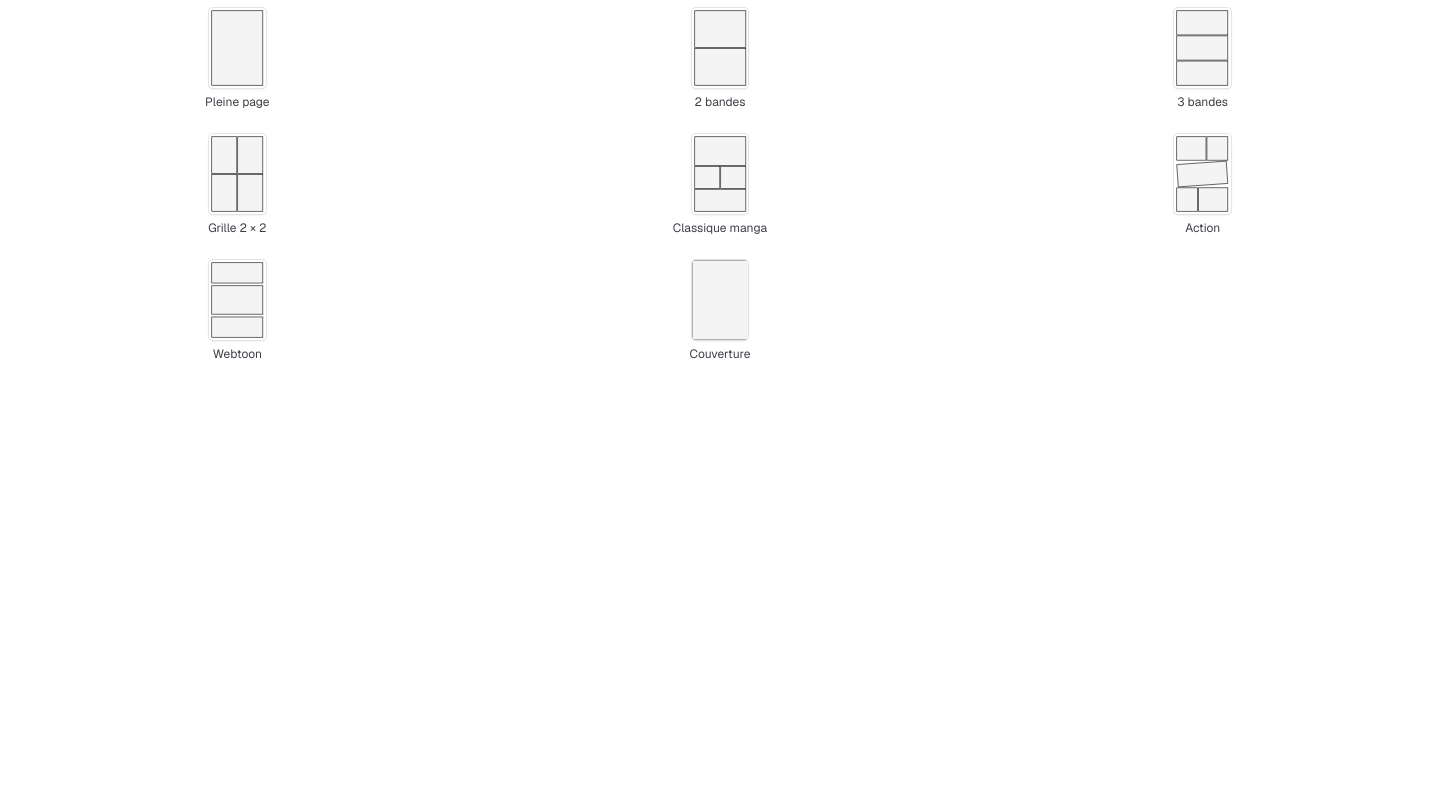
Scenario: TemplatePicker › keeps the current panels when the user cancels
The width and height of the screenshot is (1440, 810).
What coordinates should you click on to do the following:
click the button "Pleine page"
I would click on:
 (237, 59)
Its box is [0,0,475,118].
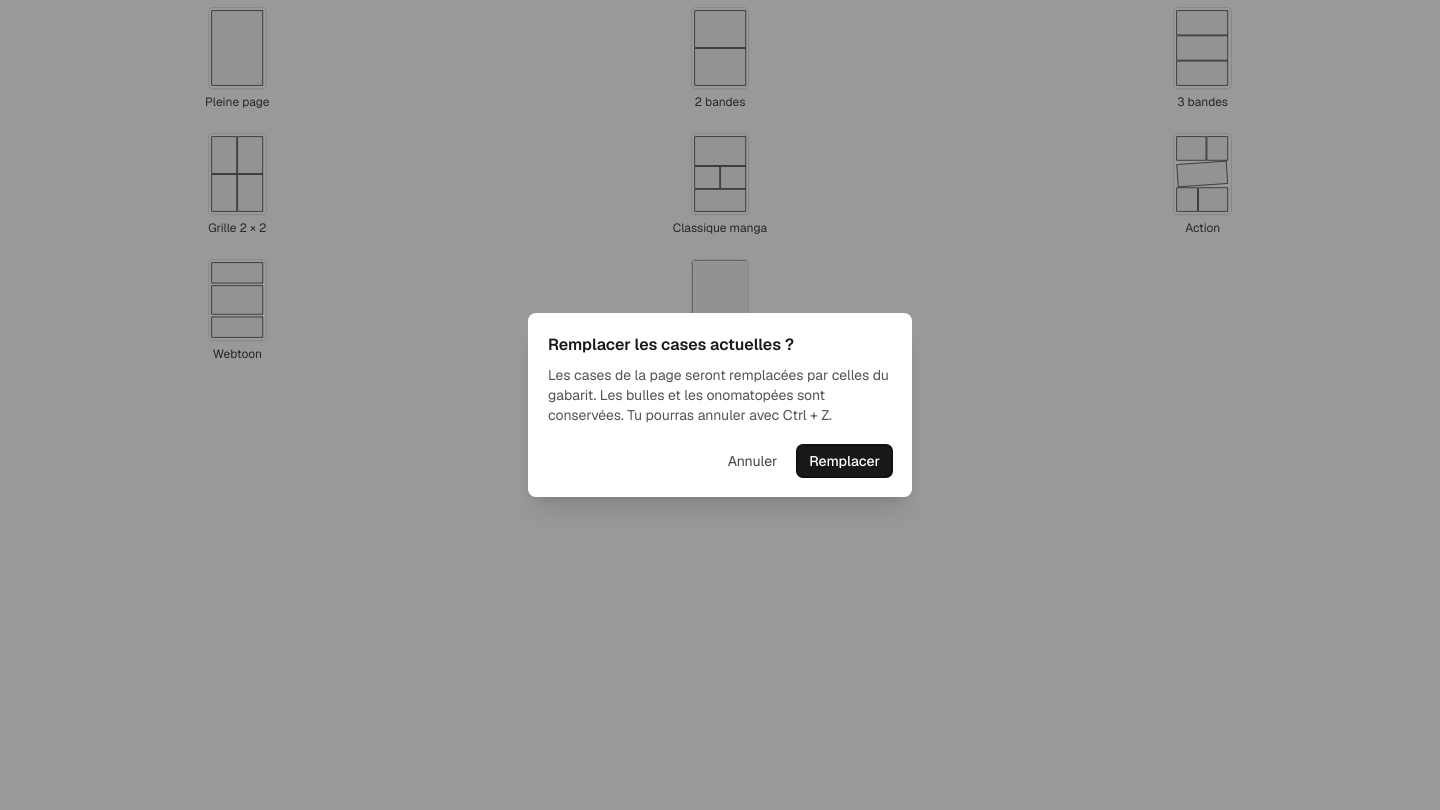
What coordinates should you click on to do the following:
click the button "Annuler"
I would click on:
 (752, 461)
Its box is [716,445,789,477].
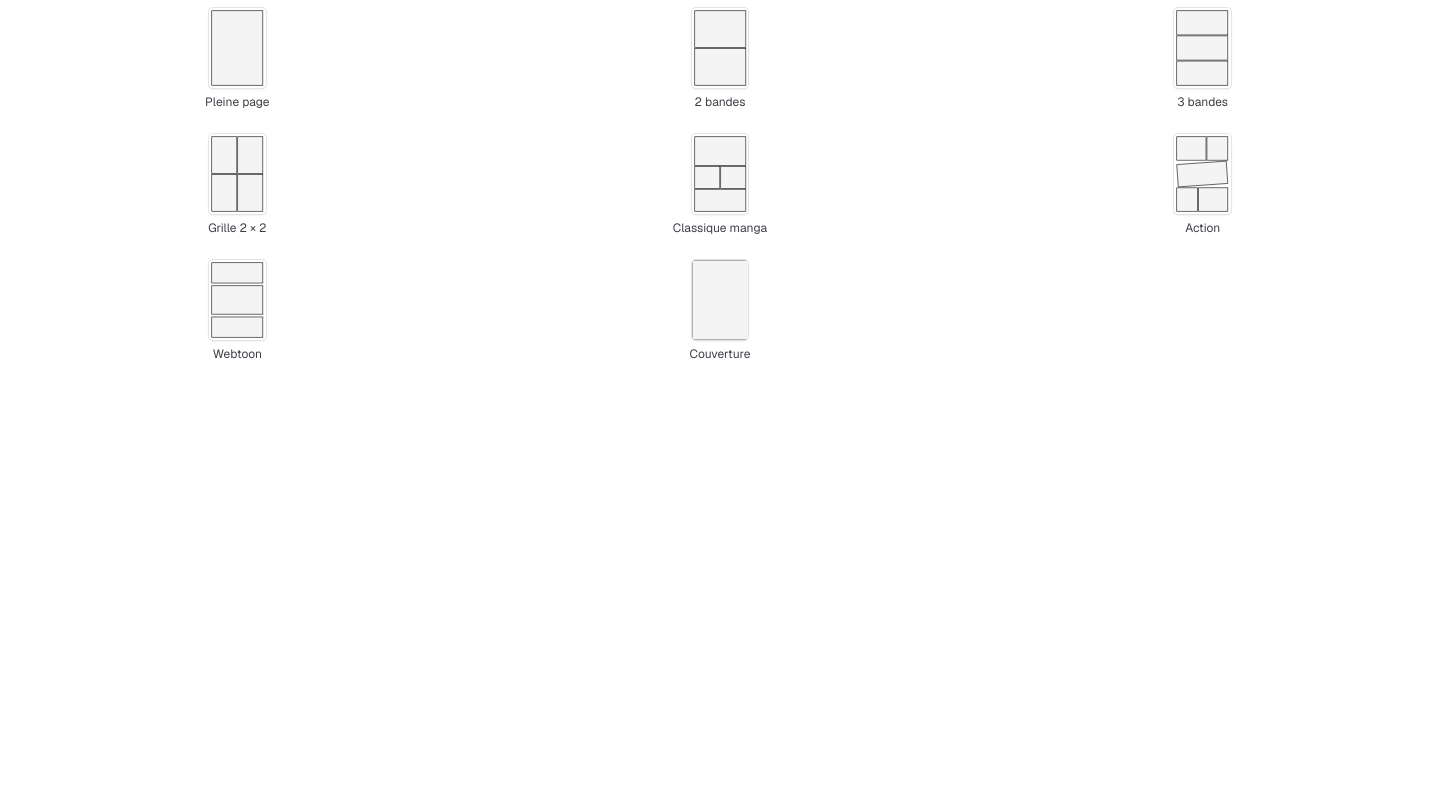
Now the dialog is gone
